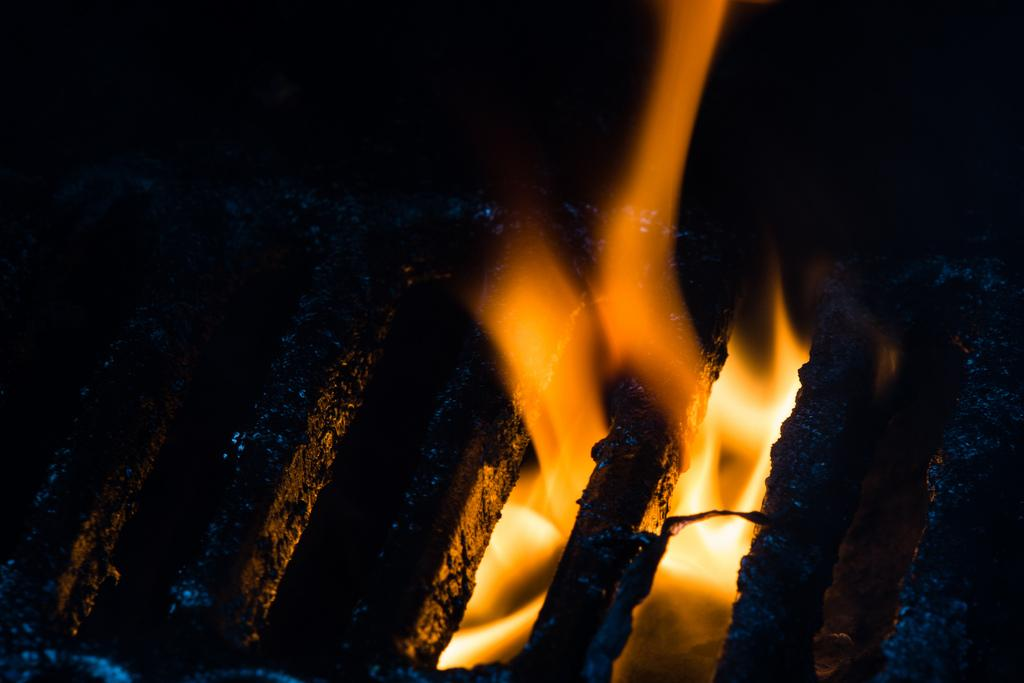fire: (507, 257, 687, 420), (647, 12, 710, 210), (503, 473, 580, 628), (685, 445, 760, 577), (713, 347, 795, 432)
